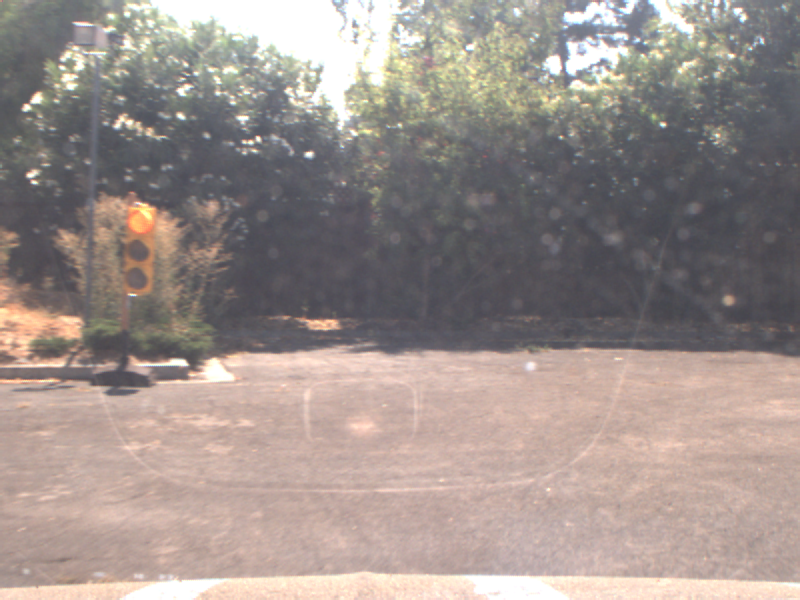red: (123, 204, 156, 297)
